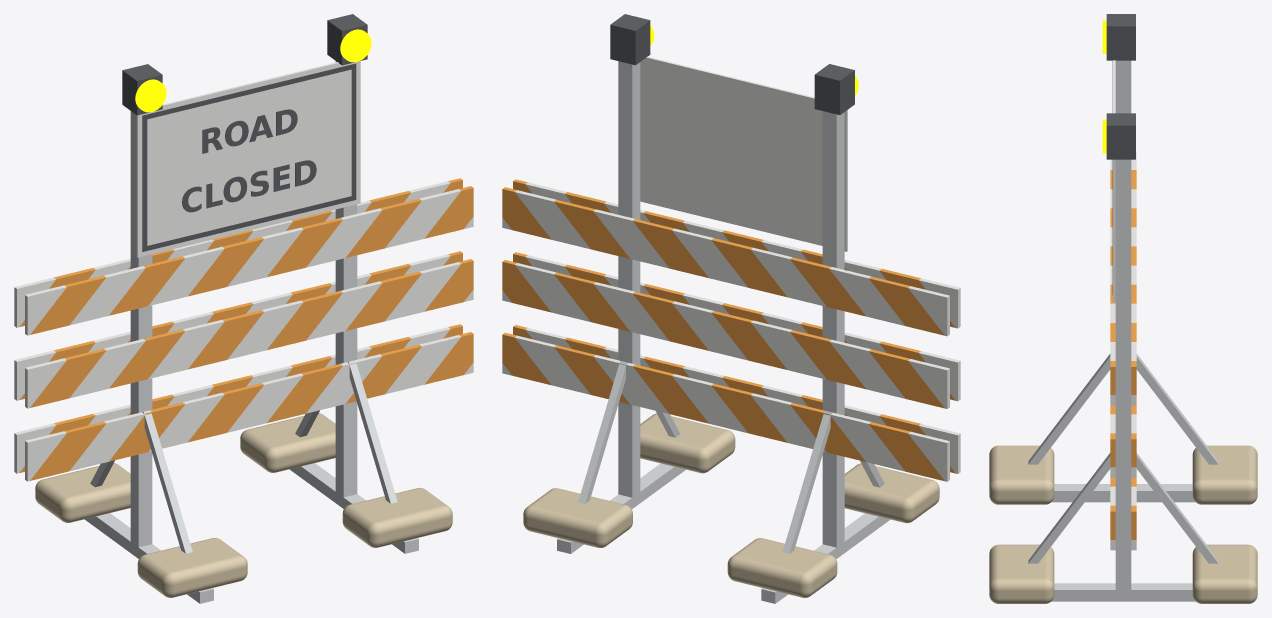
Rendered from Type_III_Barricade_Road_Closed.glb.
3 renders of one model, left to right at view 1: azimuth 30°, elevation 25°; view 2: azimuth 150°, elevation 25°; view 3: azimuth 270°, elevation 25°, orthographic.
Visible parts, largest first — view 1: sign, sandbags, posts, sign_legend, feet, rail2_front_orange_2, rail3_front_white_5, rail1_front_white_4, rail2_front_orange_3, rail2_front_white_5, rail2_front_orange_5, rail1_front_orange (+36 smaller); view 2: sign, sandbags, posts, feet, lamp_housing, lamp_housing_2, rail2_back_white_3, rail3_back_white_4, rail2_back_white_4, rail3_back_orange_4, rail3_back_white_5, rail3_back_orange_5 (+33 smaller); view 3: sandbags, feet, posts, lamp_housing, lamp_housing_2, sign.
Part boxes in pixels (x1=…): sign: x1=136, y1=61, x2=360, y2=257; sandbags: x1=35, y1=413, x2=452, y2=597; posts: x1=130, y1=61, x2=357, y2=547; sign_legend: x1=142, y1=63, x2=356, y2=251; feet: x1=85, y1=360, x2=418, y2=603; rail2_front_orange_2: x1=109, y1=329, x2=184, y2=388; rail3_front_white_5: x1=306, y1=208, x2=382, y2=267; rail1_front_white_4: x1=227, y1=373, x2=303, y2=432; rail2_front_orange_3: x1=188, y1=310, x2=263, y2=369; rail2_front_white_5: x1=306, y1=281, x2=382, y2=340; rail2_front_orange_5: x1=345, y1=271, x2=421, y2=330; rail1_front_orange: x1=30, y1=421, x2=106, y2=480; sign: x1=640, y1=56, x2=847, y2=251; sandbags: x1=523, y1=413, x2=939, y2=597; posts: x1=618, y1=61, x2=844, y2=547; feet: x1=557, y1=360, x2=890, y2=603; lamp_housing: x1=814, y1=64, x2=854, y2=114; lamp_housing_2: x1=610, y1=14, x2=650, y2=65; rail2_back_white_3: x1=751, y1=320, x2=826, y2=379; rail3_back_white_4: x1=672, y1=228, x2=747, y2=287; rail2_back_white_4: x1=672, y1=301, x2=747, y2=360; rail3_back_orange_4: x1=633, y1=219, x2=708, y2=277; rail3_back_white_5: x1=593, y1=209, x2=669, y2=268; rail3_back_orange_5: x1=554, y1=199, x2=629, y2=258; sandbags: x1=989, y1=445, x2=1257, y2=603; feet: x1=1028, y1=354, x2=1218, y2=601; posts: x1=1115, y1=60, x2=1131, y2=589; lamp_housing: x1=1106, y1=14, x2=1135, y2=60; lamp_housing_2: x1=1106, y1=113, x2=1135, y2=159; sign: x1=1113, y1=60, x2=1115, y2=302.
Size of the model in its own units: 2.44 by 2.52 by 1.28.
